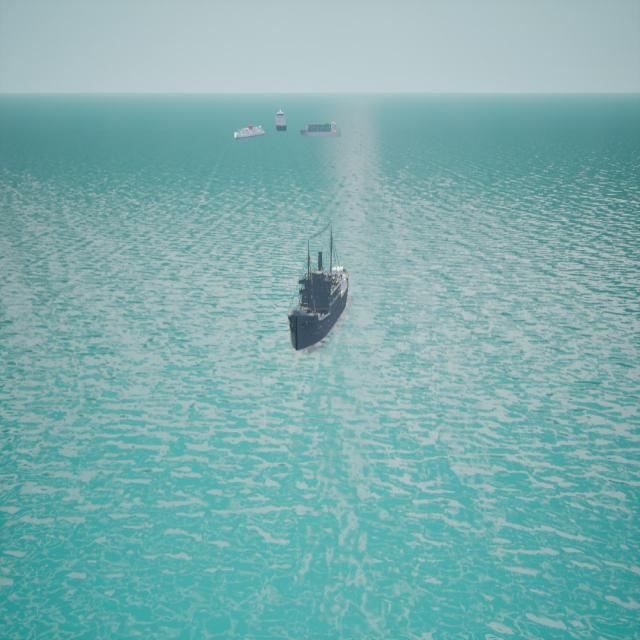fishing ship: (290, 215, 353, 354), (302, 121, 342, 139), (234, 126, 266, 141), (275, 111, 287, 133)
